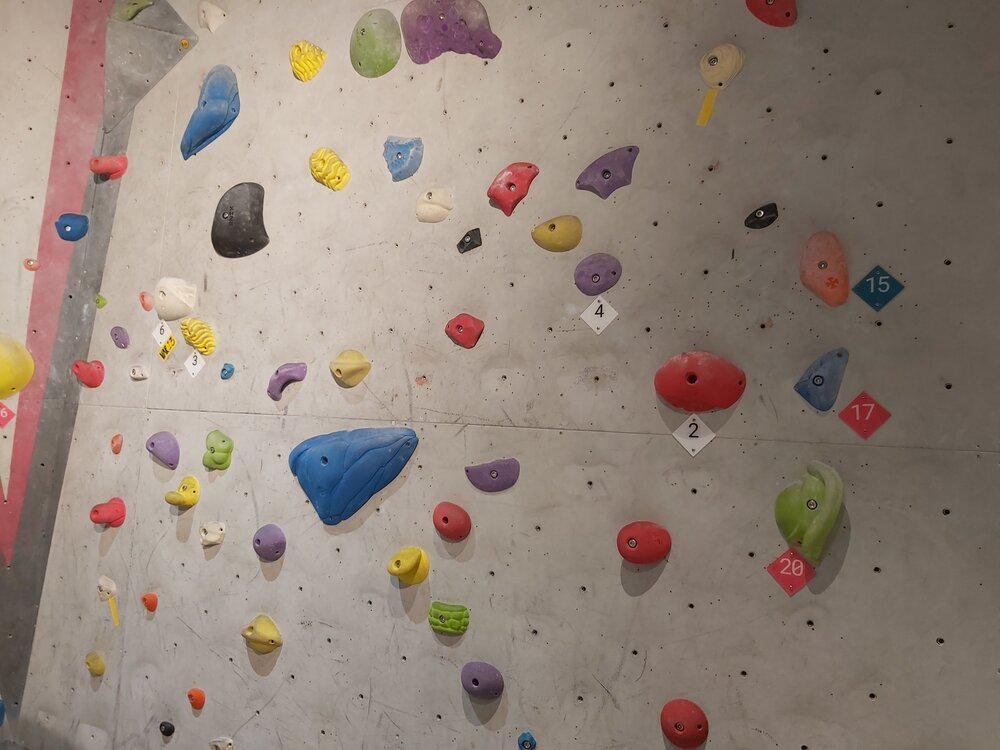hold: (288, 427, 418, 525), (773, 458, 845, 567), (401, 0, 502, 64), (181, 64, 240, 162), (655, 351, 745, 412), (210, 180, 273, 259), (792, 348, 851, 412), (575, 145, 640, 201), (800, 231, 848, 306), (350, 8, 401, 77), (487, 161, 541, 217), (615, 520, 674, 565), (660, 699, 709, 749), (0, 329, 34, 400), (698, 43, 748, 90), (573, 251, 624, 296), (309, 146, 353, 192), (464, 458, 519, 494), (154, 276, 197, 321), (382, 135, 423, 182), (531, 215, 583, 251), (241, 613, 284, 655), (386, 545, 430, 585), (289, 39, 329, 83), (461, 661, 504, 700), (329, 350, 372, 388), (267, 362, 307, 401), (433, 501, 471, 541), (427, 601, 469, 636), (745, 0, 799, 27), (415, 185, 454, 222), (444, 313, 485, 348), (181, 317, 216, 356), (147, 431, 180, 470), (202, 430, 233, 471), (254, 524, 287, 562), (164, 475, 201, 507), (89, 497, 126, 528), (742, 201, 778, 231), (53, 212, 90, 241), (197, 0, 231, 31), (71, 358, 105, 388), (89, 155, 128, 180), (118, 0, 155, 22), (455, 227, 483, 254), (199, 520, 225, 546), (84, 650, 107, 677), (96, 575, 118, 601), (185, 687, 206, 711), (139, 591, 159, 614), (110, 327, 130, 349), (517, 730, 537, 750), (208, 736, 235, 750), (128, 365, 149, 381), (138, 292, 155, 311), (159, 720, 176, 737), (220, 362, 235, 380), (110, 434, 123, 454), (23, 257, 41, 271), (0, 694, 7, 730), (94, 292, 108, 308), (180, 38, 190, 49)
volume: (104, 0, 201, 134)
